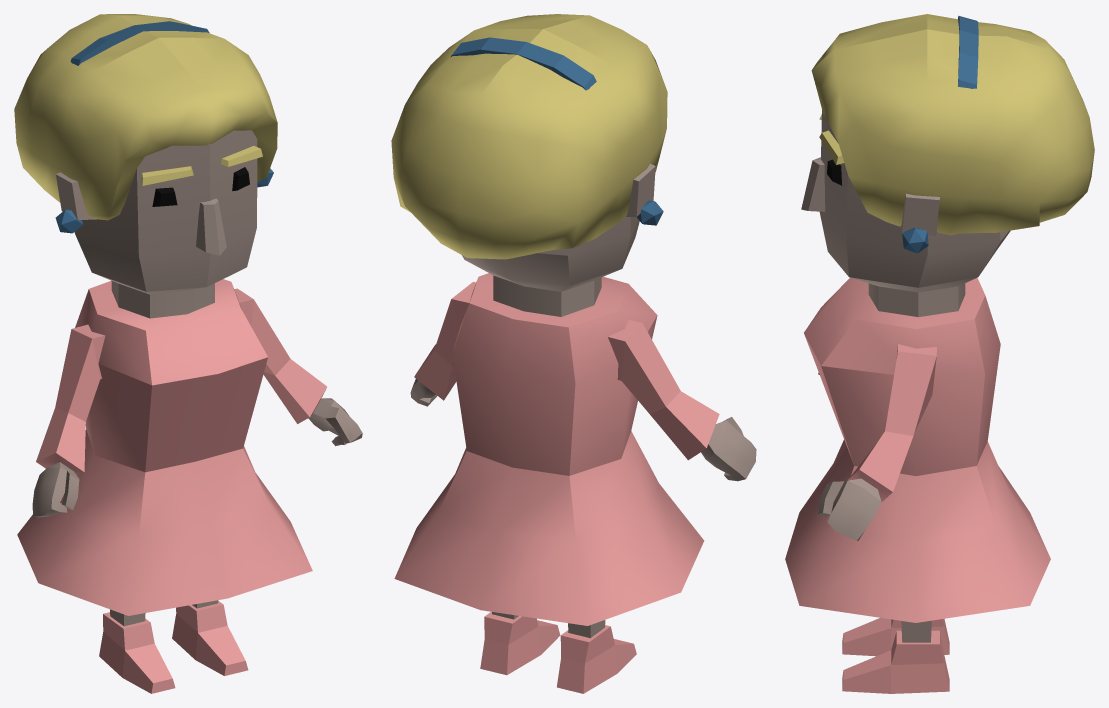
The picture shows the model from 3 angles, left to right: view 1: azimuth 30°, elevation 25°; view 2: azimuth 150°, elevation 25°; view 3: azimuth 270°, elevation 25°; orthographic projection. The views are drawn at different scales.
Parts seen in each view (by area): view 1: Troll Body.014, Cube.036, Man Head 1.010, Troll Arms Simple.010, Troll Shoes.010, Cube.037, Cube.035, Troll Eyebrow.010, Cube.034, Troll Eye.010, Icosphere; view 2: Troll Body.014, Cube.036, Troll Arms Simple.010, Man Head 1.010, Troll Shoes.010, Cube.037, Cube.034; view 3: Troll Body.014, Cube.036, Man Head 1.010, Troll Arms Simple.010, Troll Shoes.010, Cube.037, Cube.034, Cube.035, Troll Legs.010, Icosphere.
Part boxes in pixels (box(x1,y1,x2,y2)): Troll Body.014: box(17, 279, 312, 615); Cube.036: box(14, 14, 277, 220); Man Head 1.010: box(74, 130, 257, 318); Troll Arms Simple.010: box(32, 288, 362, 517); Troll Shoes.010: box(99, 601, 248, 693); Cube.037: box(70, 21, 209, 65); Cube.035: box(196, 198, 226, 255); Troll Eyebrow.010: box(141, 146, 262, 185); Cube.034: box(56, 172, 96, 219); Troll Eye.010: box(152, 167, 249, 206); Icosphere: box(55, 168, 273, 233); Troll Body.014: box(394, 273, 704, 625); Cube.036: box(391, 14, 667, 259); Troll Arms Simple.010: box(410, 281, 756, 481); Man Head 1.010: box(462, 216, 639, 316); Troll Shoes.010: box(480, 611, 636, 693); Cube.037: box(450, 37, 596, 90); Cube.034: box(626, 163, 655, 216); Troll Body.014: box(785, 277, 1050, 622); Cube.036: box(811, 14, 1094, 235); Man Head 1.010: box(819, 110, 1010, 317); Troll Arms Simple.010: box(818, 344, 936, 540); Troll Shoes.010: box(842, 617, 949, 693); Cube.037: box(958, 15, 978, 88); Cube.034: box(900, 193, 939, 235); Cube.035: box(801, 157, 825, 211); Troll Legs.010: box(901, 620, 931, 642); Icosphere: box(902, 227, 928, 253).
Size of the model in its own units: 83.48 by 153 by 67.54.
